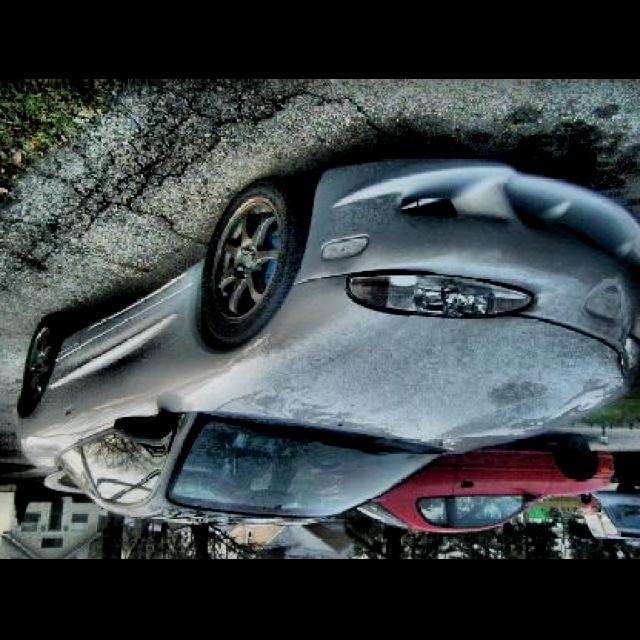red: (382, 446, 640, 554)
